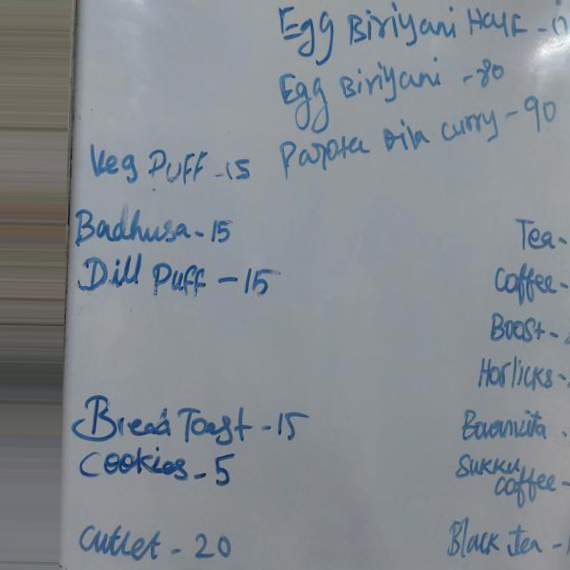Tea - 10: (510, 211, 570, 255)
badhusa -15: (72, 203, 243, 253)
black tea - 10: (441, 512, 570, 558)
boost - 35: (485, 307, 570, 347)
bournvita - 35: (458, 405, 570, 446)
bread toast - 15: (70, 391, 314, 446)
coffee - 15: (488, 260, 570, 303)
cookies - 5: (77, 445, 247, 492)
cutlet - 20: (73, 517, 252, 565)
dill puff - 15: (75, 251, 290, 305)
egg briyani - 80: (272, 58, 466, 114)
egg briyani half -50: (273, 1, 570, 51)
horlicks - 35: (473, 350, 570, 391)
parotta - 90: (276, 116, 504, 176)
sukku coffee - 10: (454, 450, 570, 508)
veg puff - 15: (86, 140, 257, 194)
